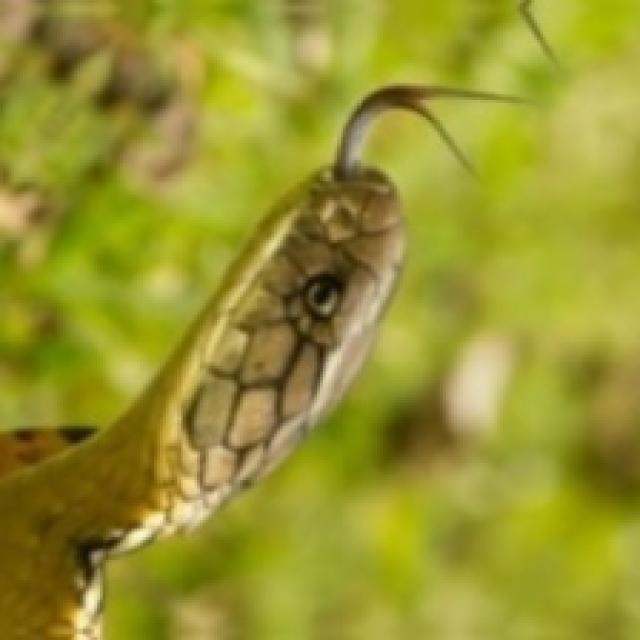king cobra: (0, 86, 517, 637), (3, 3, 537, 417), (357, 143, 486, 417), (120, 100, 203, 194)
